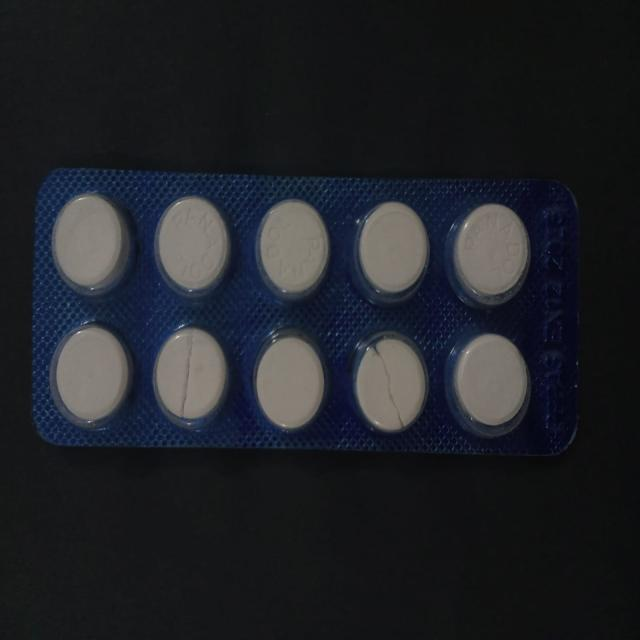defect: (347, 326, 432, 441), (150, 320, 234, 433)
